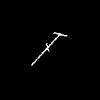double_crochet: (32, 33, 66, 64)
